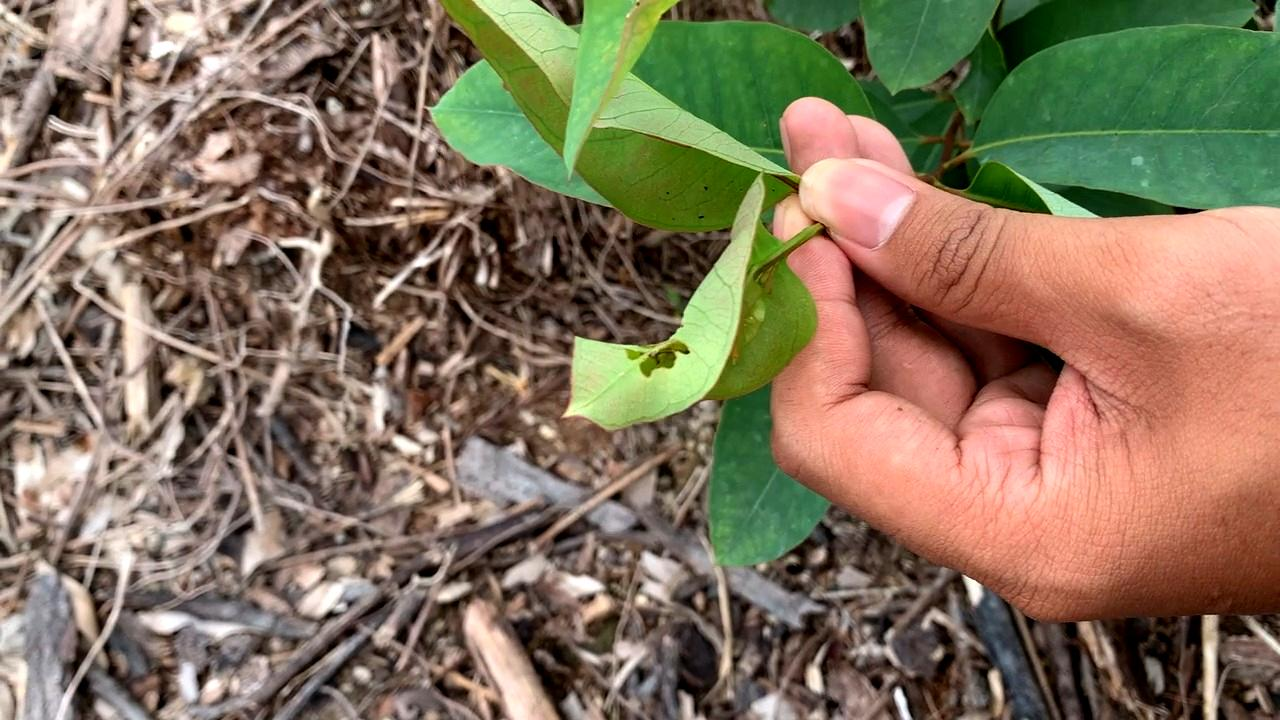Leaf Roller - Leaf: (561, 202, 815, 437)
